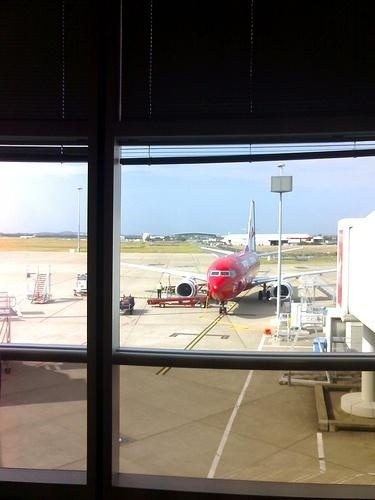aeroplane: (121, 199, 340, 318)
